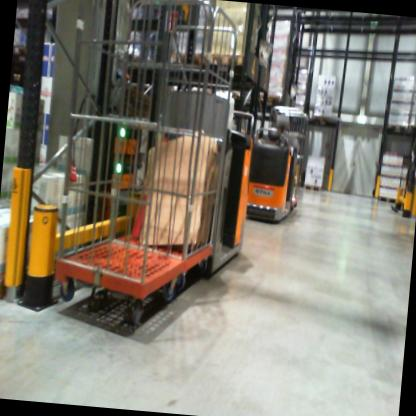pallet: (208, 48, 251, 79), (171, 49, 208, 75), (0, 267, 26, 304), (380, 120, 409, 136), (311, 112, 331, 128), (375, 193, 398, 206), (261, 94, 284, 106), (14, 44, 32, 59), (303, 182, 325, 193), (406, 122, 416, 134)
pallet_truck: (150, 64, 270, 300), (238, 116, 314, 231)
